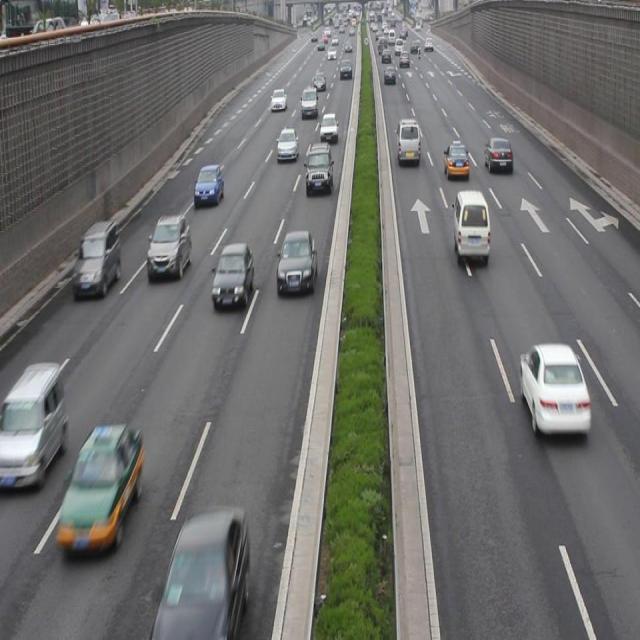car: (152, 501, 250, 640), (58, 422, 144, 553), (517, 340, 590, 435), (72, 219, 122, 298), (148, 214, 192, 280), (212, 242, 252, 311), (276, 228, 316, 292), (305, 140, 332, 195), (484, 134, 514, 177), (195, 163, 223, 207), (445, 140, 469, 180), (276, 126, 299, 161), (319, 111, 339, 144)
truck: (1, 359, 67, 491), (453, 188, 488, 260), (395, 117, 420, 167)
